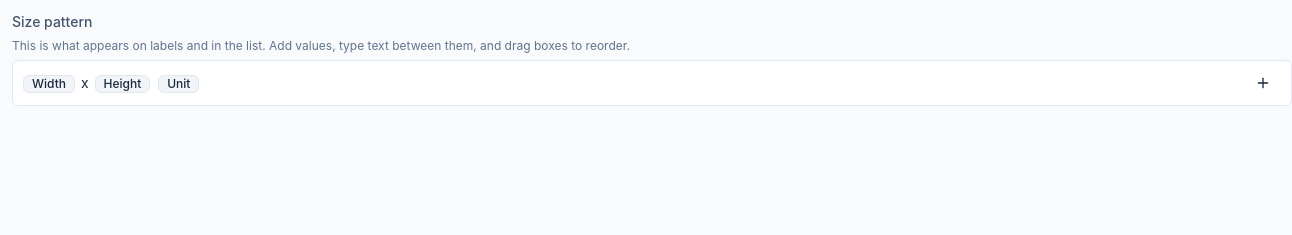
Test: SizePatternEditor › opens the add-value menu from the plus button
This screenshot has width=1292, height=235.
What coordinates should you click on to do the following:
click the button named "Add value to Size pattern"
I would click on:
 (1263, 83)
Its box is [1243, 67, 1283, 99].
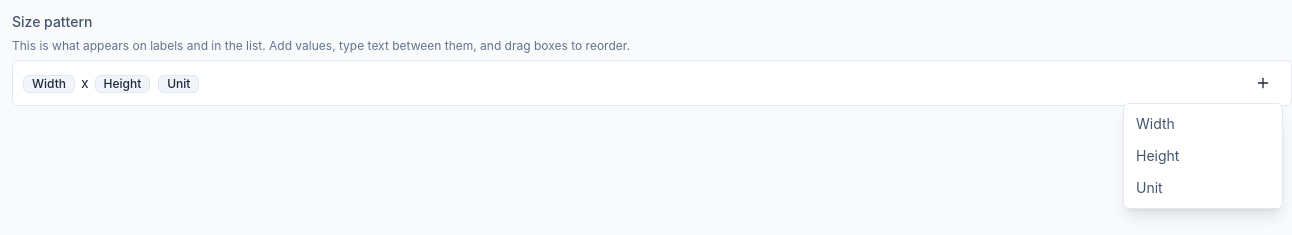
Expected: the menu item "Width" is shown, [1124, 108, 1282, 140]
Expected: the menu item "Unit" is shown, [1124, 172, 1282, 204]
